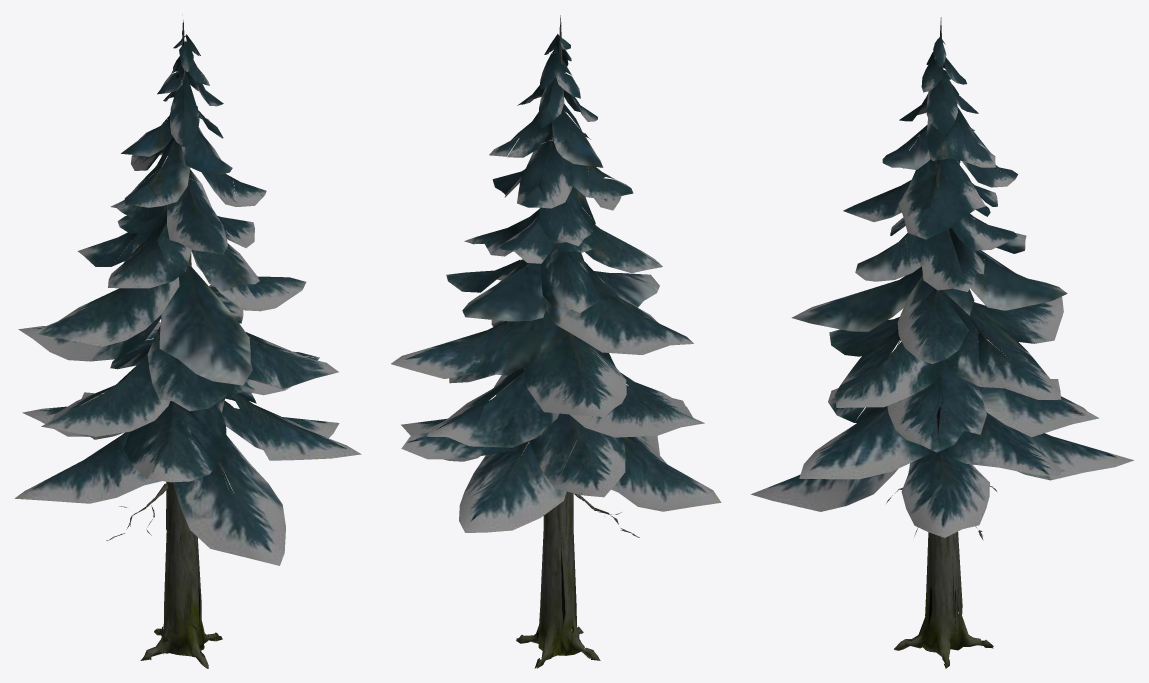
File: pine.glb
3 renders of one model, left to right at view 1: azimuth 30°, elevation 25°; view 2: azimuth 150°, elevation 25°; view 3: azimuth 270°, elevation 25°, orthographic.
Parts seen in each view (by area): view 1: pine_p2; view 2: pine_p2; view 3: pine_p2.
Part boxes in pixels (x1,y1,x2,y2): pine_p2: [14, 20, 361, 668]; pine_p2: [391, 15, 721, 668]; pine_p2: [751, 17, 1133, 668].
Size of the model in its own units: 0.5313 by 1 by 0.5487.
2 materials, 2 textured.
